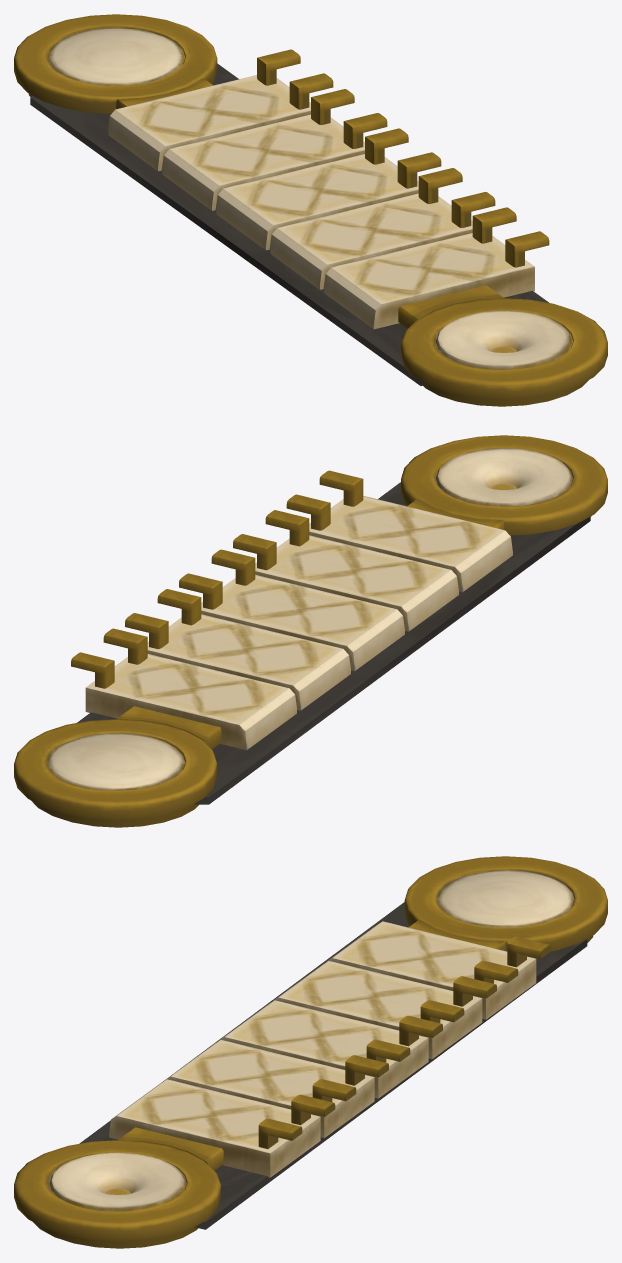
File: RightEssenceBar.fbx
3 renders of one model, top to bottom at view 1: azimuth 30°, elevation 25°; view 2: azimuth 150°, elevation 25°; view 3: azimuth 330°, elevation 25°, orthographic.
Visible parts, largest first — view 1: Box072, Component_Lookout_StoneMd005, Component_Lookout_StoneMd006, Cylinder006, Box073; view 2: Box072, Component_Lookout_StoneMd006, Component_Lookout_StoneMd005, Cylinder006, Box073; view 3: Box072, Component_Lookout_StoneMd005, Component_Lookout_StoneMd006, Box073, Cylinder006.
Part boxes in pixels (x1,y1,x2,y2): Box072: [107, 75, 534, 329]; Component_Lookout_StoneMd005: [398, 285, 607, 406]; Component_Lookout_StoneMd006: [14, 14, 217, 113]; Cylinder006: [30, 63, 548, 385]; Box073: [257, 49, 549, 267]; Box072: [85, 496, 512, 750]; Component_Lookout_StoneMd006: [14, 706, 221, 827]; Component_Lookout_StoneMd005: [401, 435, 607, 535]; Cylinder006: [77, 482, 590, 804]; Box073: [71, 470, 363, 688]; Box072: [109, 921, 536, 1177]; Component_Lookout_StoneMd005: [14, 1127, 223, 1248]; Component_Lookout_StoneMd006: [404, 856, 607, 951]; Box073: [258, 936, 550, 1148]; Cylinder006: [79, 902, 587, 1229].
Bounding box in the file's own units: 18.45 × 5.08 × 78.55.
1 material, 1 textured.
